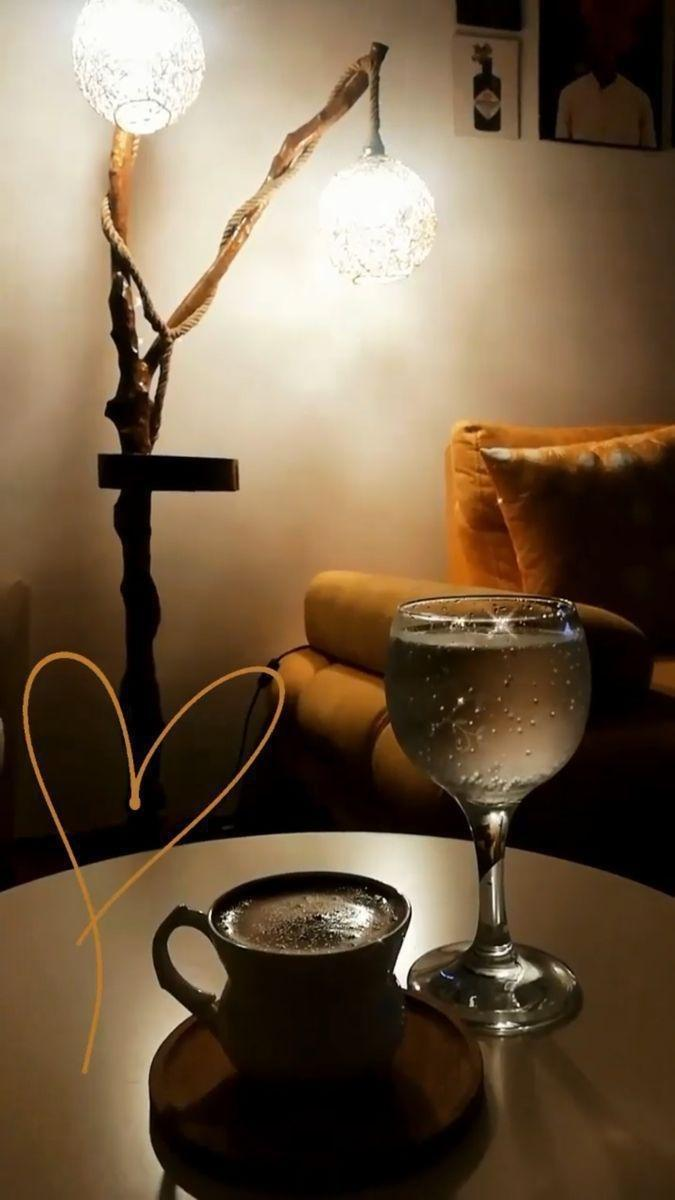cup-handle: (149, 869, 415, 1095)
glass-wine: (384, 591, 595, 1035)
